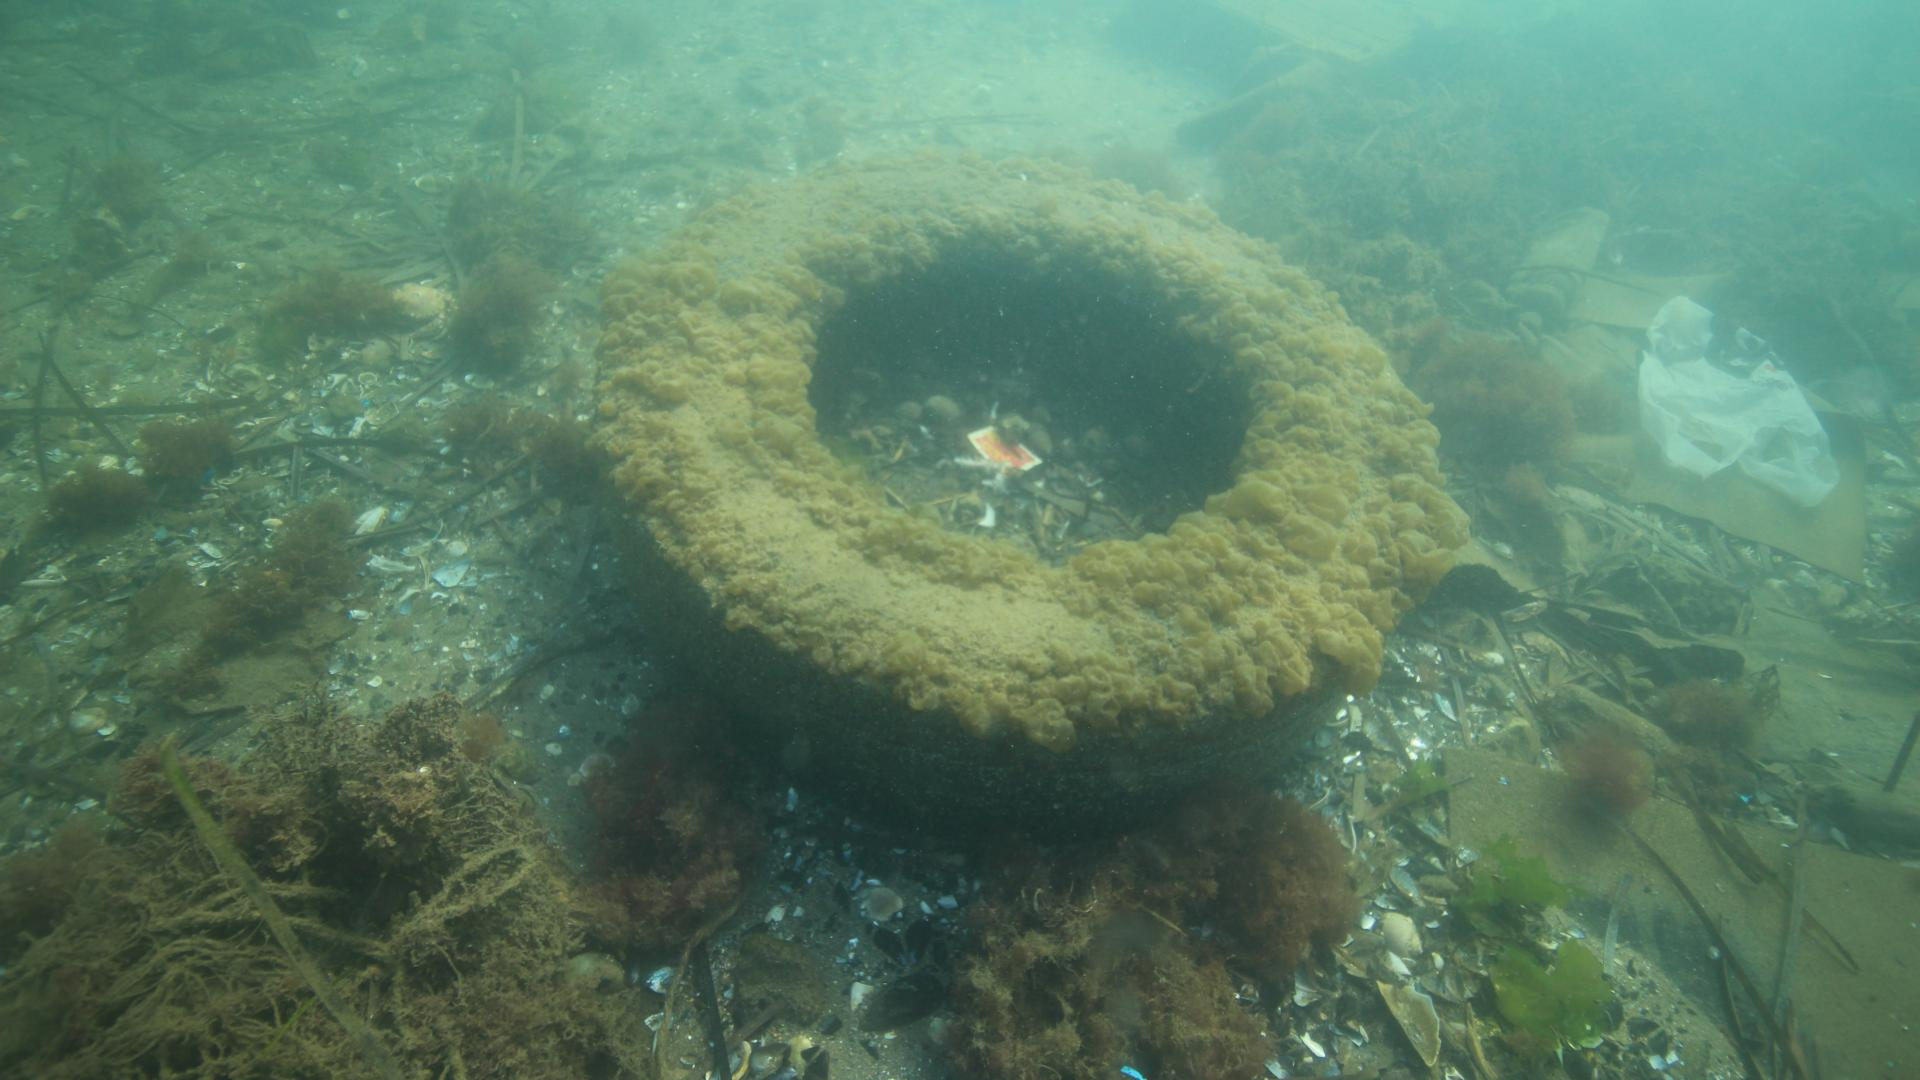tire: (617, 166, 1425, 816)
